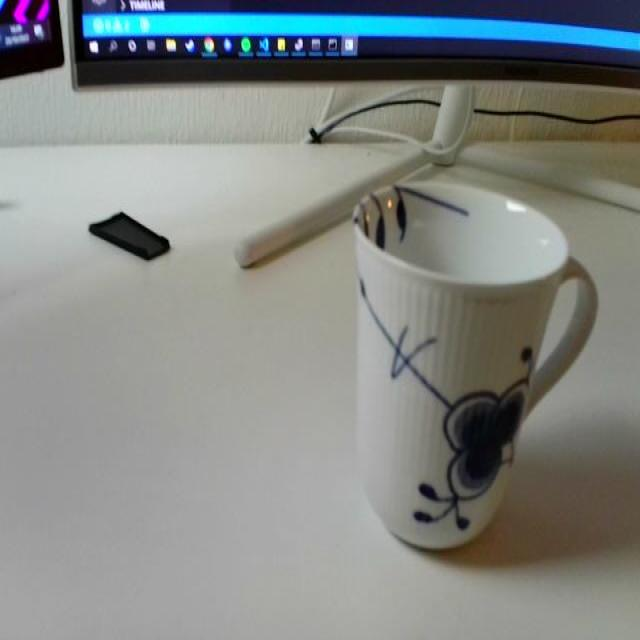cup: (342, 155, 616, 580)
